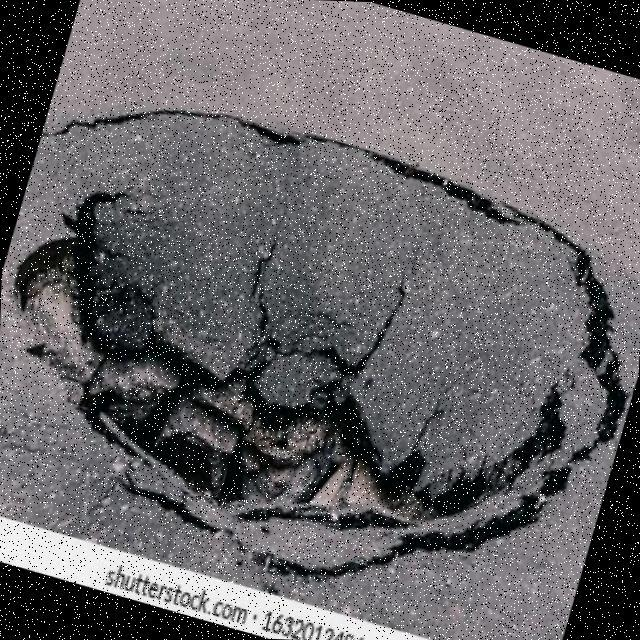Pothole: (14, 109, 631, 576)
